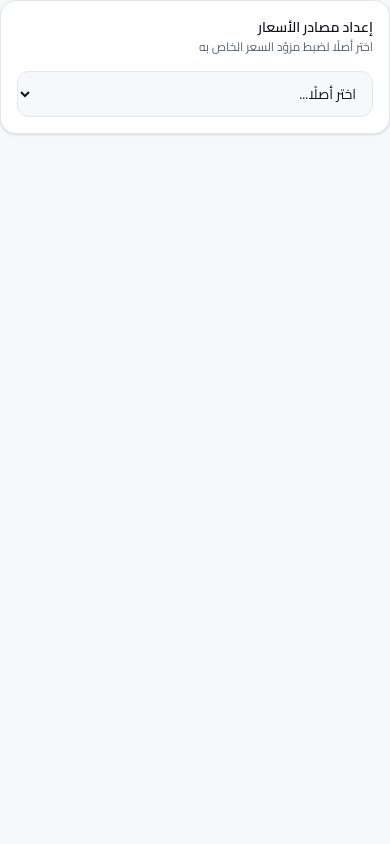
Test: PricingAdmin › surfaces a validation error from the backend for an inconsistent configuration
Select "TMGH — Talaat (EGP)" in the dropdown at (195, 94), box x1=17 y1=71 x2=373 y2=117
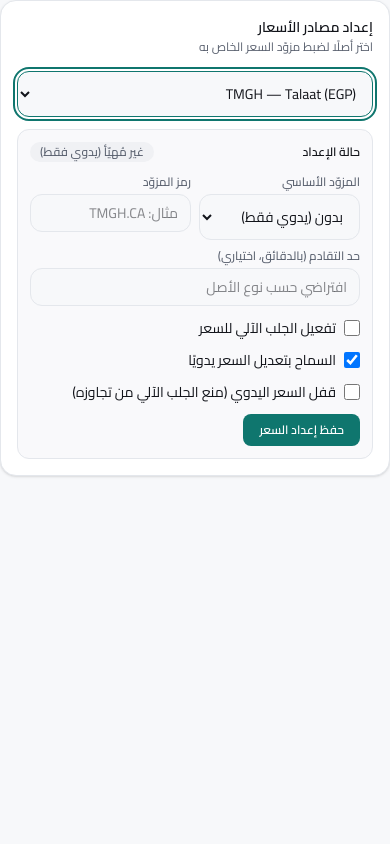
Result: the text "غير مُهيّأ (يدوي فقط)" is shown at x1=30 y1=142 x2=154 y2=162
Click the checkbox labelled "تفعيل الجلب الآلي للسعر".
click(352, 328)  # box x1=344 y1=320 x2=360 y2=336
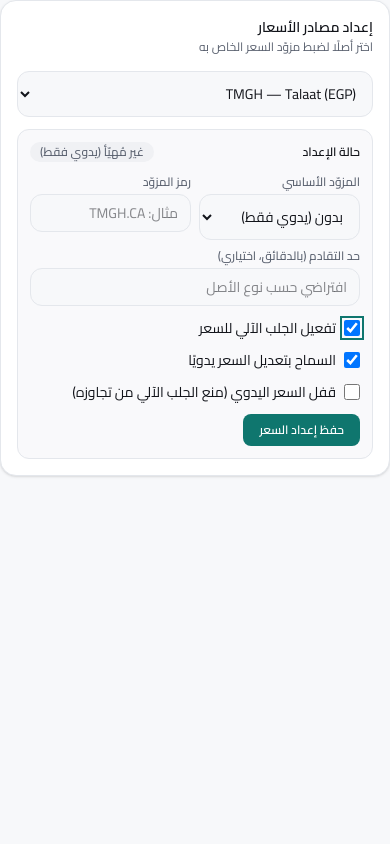
Click the button "حفظ إعداد السعر".
click(302, 430)  # box x1=244 y1=414 x2=360 y2=446
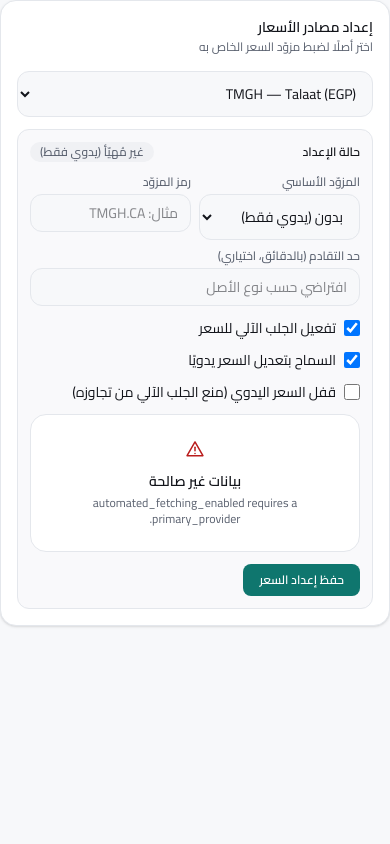
Result: the text "بيانات غير صالحة" is shown at x1=149 y1=468 x2=241 y2=494
